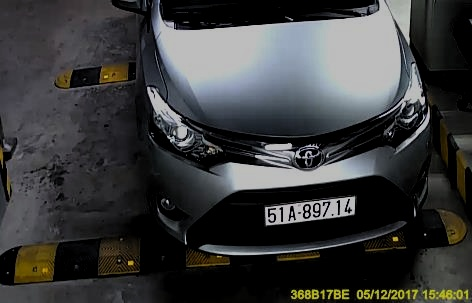plate: (264, 192, 359, 225)
